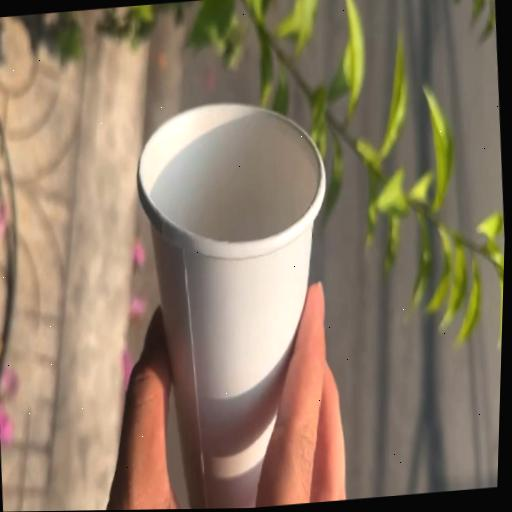Ly_giay: (137, 106, 325, 509)
